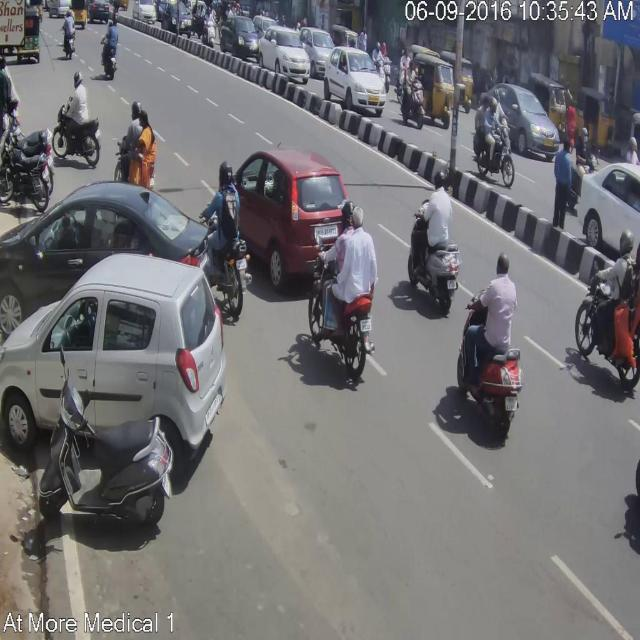with helmet: (217, 158, 233, 190), (339, 200, 353, 226), (73, 68, 83, 88), (434, 170, 444, 188), (66, 9, 70, 15)
without helmet: (495, 252, 511, 274), (353, 206, 363, 227), (112, 16, 116, 26), (108, 20, 110, 24)
